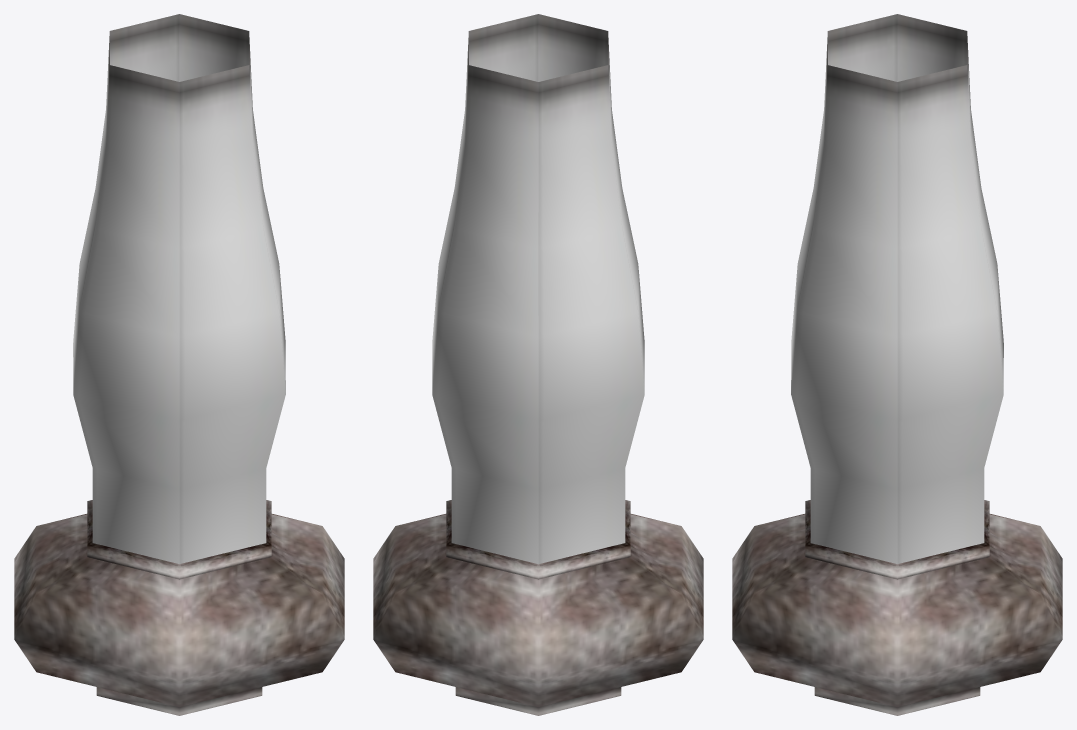
Rendered from lamp_table_hurricane_oil.fbx.
The picture shows the model from 3 angles, left to right: view 1: azimuth 30°, elevation 25°; view 2: azimuth 150°, elevation 25°; view 3: azimuth 270°, elevation 25°; orthographic projection.
Visible parts, largest first — view 1: lamp_glass, lamp_base, lamp_glass1; view 2: lamp_glass, lamp_base, lamp_glass1; view 3: lamp_glass, lamp_base, lamp_glass1.
Part boxes in pixels (left/top/right/bottom): lamp_glass: left=73, top=36, right=285, bottom=563; lamp_base: left=14, top=500, right=344, bottom=715; lamp_glass1: left=109, top=14, right=249, bottom=81; lamp_glass: left=432, top=38, right=644, bottom=564; lamp_base: left=373, top=500, right=703, bottom=715; lamp_glass1: left=468, top=14, right=608, bottom=81; lamp_glass: left=791, top=36, right=1003, bottom=563; lamp_base: left=732, top=500, right=1062, bottom=715; lamp_glass1: left=827, top=14, right=967, bottom=81.
Size of the model in its own units: 94.23 by 171 by 81.61.
2 materials, 2 textured.
